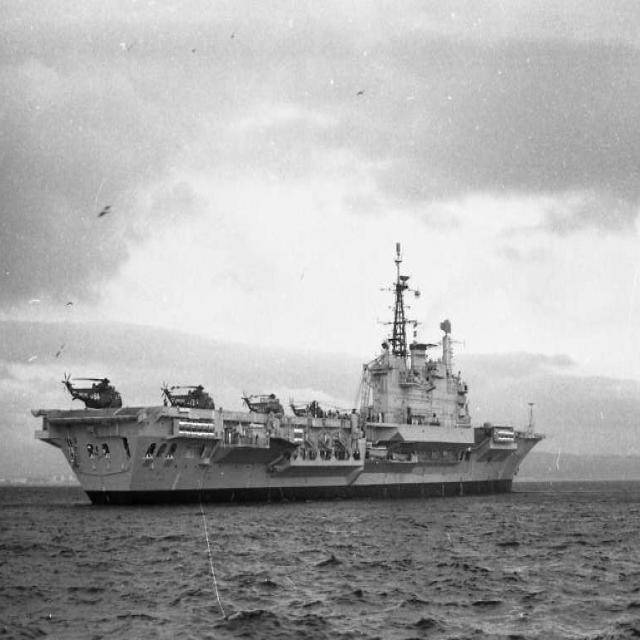Portanaves: (29, 237, 553, 503)
